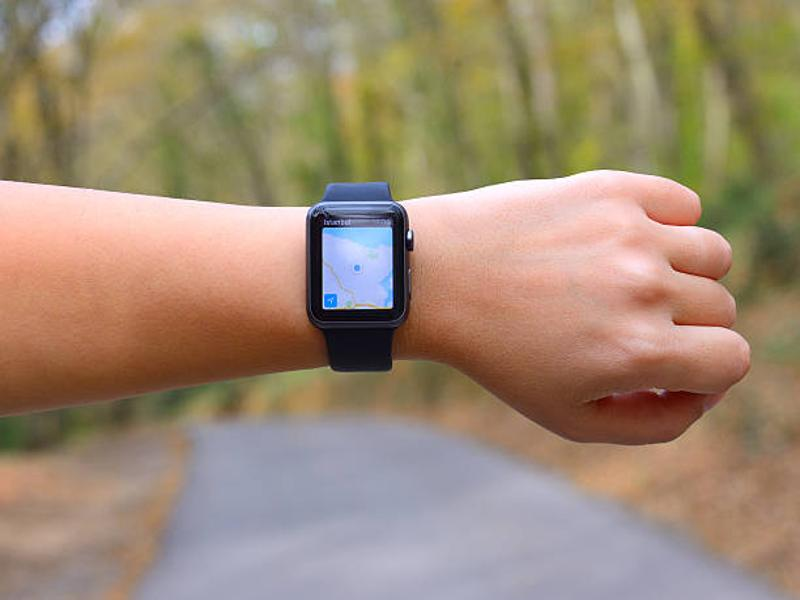watch: (303, 179, 414, 377)
